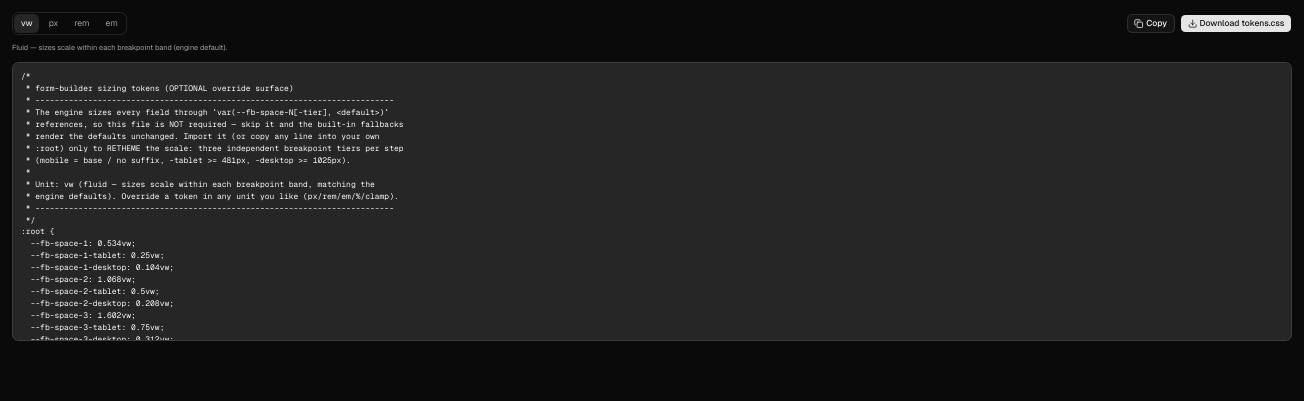
Test: ThemeExportPanel › rem adds the base input and divides by it
Click the radio button labelled "rem" at (82, 23), box [68,14,96,33]
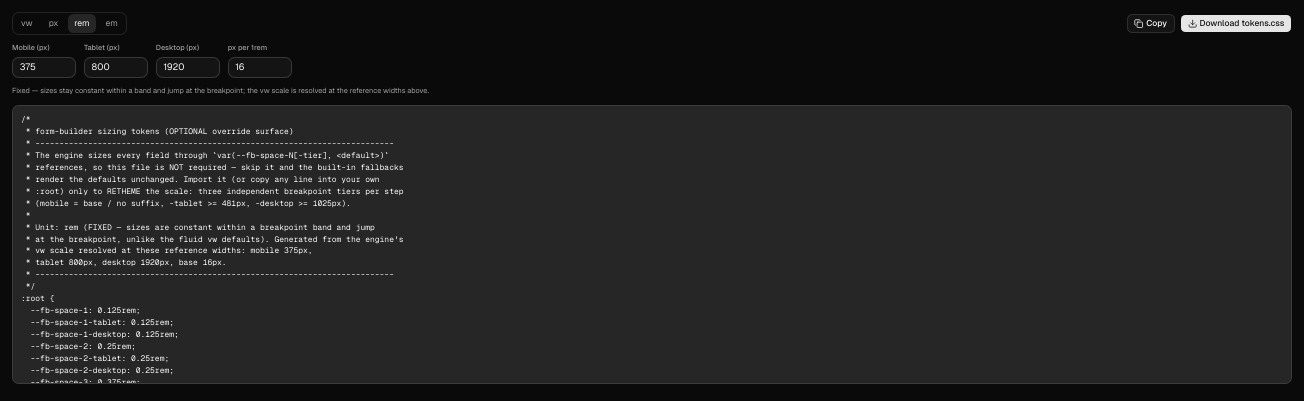
Expected: the number of number fields is 4, [12,57,76,78]; [84,57,148,78]; [156,57,220,78]; [228,57,292,78]
